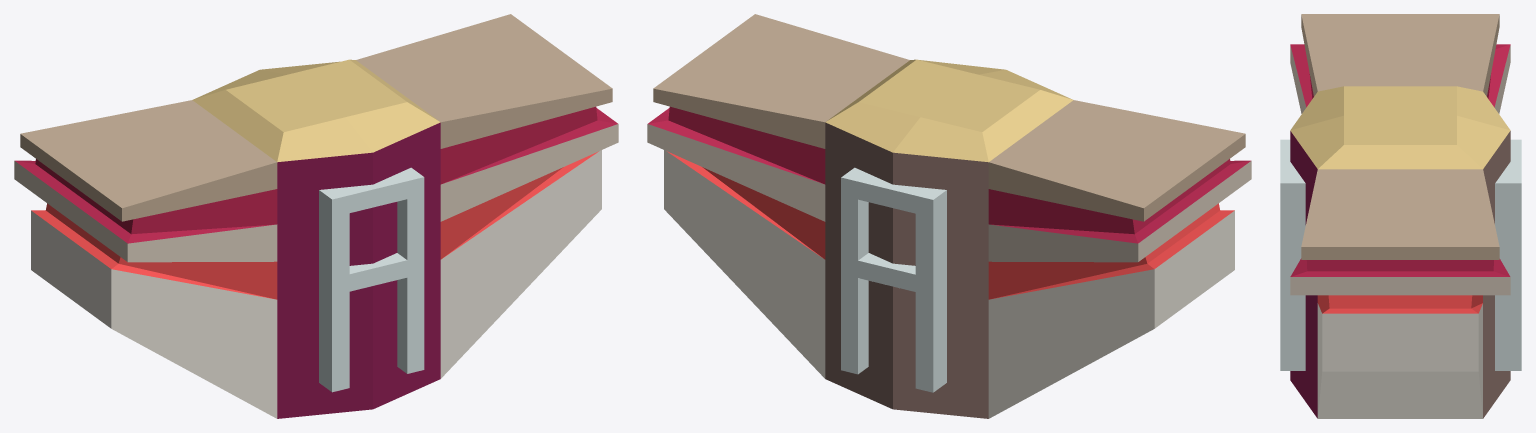
File: PowerUpContentA.fbx
3 renders of one model, left to right at view 1: azimuth 30°, elevation 25°; view 2: azimuth 150°, elevation 25°; view 3: azimuth 270°, elevation 25°, orthographic. The views are drawn at different scales.
Visible parts, largest first — view 1: PowerUpContentA; view 2: PowerUpContentA; view 3: PowerUpContentA.
Part boxes in pixels (x1,y1,x2,y2): PowerUpContentA: (14, 14, 618, 418); PowerUpContentA: (647, 14, 1251, 418); PowerUpContentA: (1280, 14, 1521, 418).
Bounding box in the file's own units: 100 × 52.96 × 43.78.
